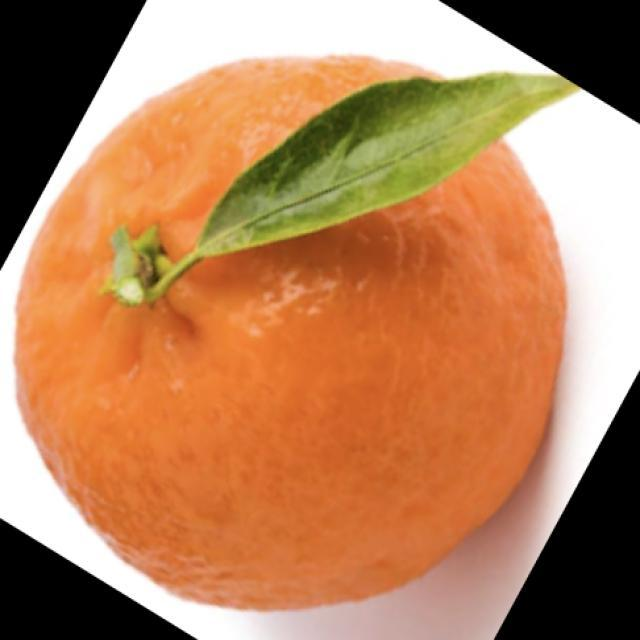Orange: (12, 52, 568, 612)
